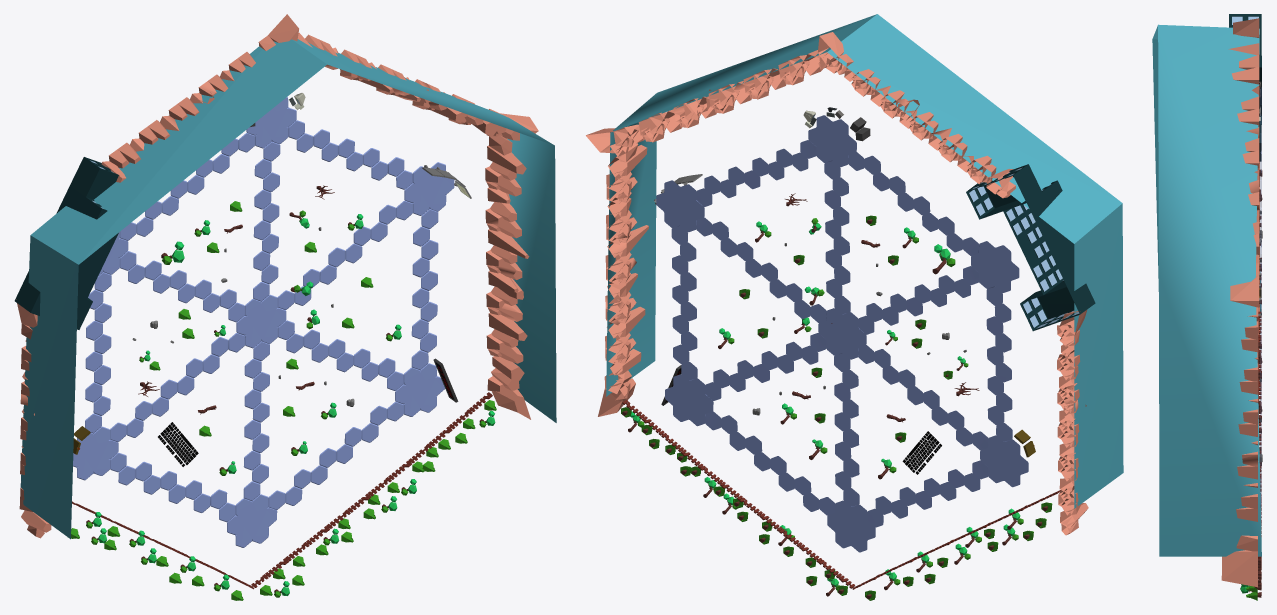
The picture shows the model from 3 angles, left to right: view 1: azimuth 30°, elevation 25°; view 2: azimuth 150°, elevation 25°; view 3: azimuth 270°, elevation 25°; orthographic projection. The views are drawn at different scales.
Visible parts, largest first — view 1: Plane.001, Circle.015, stone2.001, Circle.001, Circle.014, пол.010, пол.005, пол.001, пол.007, пол.002, пол.008, пол.011 (+13 smaller); view 2: Plane.001, stone2.001, Circle.015, Circle.014, Circle.001, Circle.032, пол.008, пол.010, пол.005, пол.004, пол.007, пол.002 (+15 smaller); view 3: Plane.001, Circle.015, Circle.014, stone2.001, Circle.001, пол.009, пол.010.
Part boxes in pixels (<box>): Plane.001: <box>20,39,556,539</box>; Circle.015: <box>485,135,530,419</box>; stone2.001: <box>14,157,119,329</box>; Circle.001: <box>101,14,298,182</box>; Circle.014: <box>297,32,538,140</box>; пол.010: <box>411,209,438,369</box>; пол.005: <box>253,141,280,301</box>; пол.001: <box>278,320,403,390</box>; пол.007: <box>110,333,244,442</box>; пол.002: <box>243,341,269,500</box>; пол.008: <box>85,272,111,433</box>; пол.011: <box>268,401,403,509</box>; Plane.001: <box>606,14,1123,508</box>; stone2.001: <box>966,164,1095,331</box>; Circle.015: <box>598,141,648,416</box>; Circle.014: <box>586,50,834,156</box>; Circle.001: <box>818,32,1015,198</box>; Circle.032: <box>1057,310,1088,535</box>; пол.008: <box>986,286,1012,441</box>; пол.010: <box>671,225,697,380</box>; пол.005: <box>824,160,850,314</box>; пол.004: <box>696,217,826,322</box>; пол.007: <box>858,345,988,450</box>; пол.002: <box>834,353,859,506</box>; Plane.001: <box>1152,24,1261,556</box>; Circle.015: <box>1221,307,1258,587</box>; Circle.014: <box>1228,43,1259,307</box>; stone2.001: <box>1229,14,1261,161</box>; Circle.001: <box>1233,18,1259,37</box>; пол.009: <box>1260,134,1261,271</box>; пол.010: <box>1260,330,1261,475</box>.
Size of what is drawn, in the model's own units: 139 by 149 by 25.57.
Materials: 44 (7 with a texture image).
